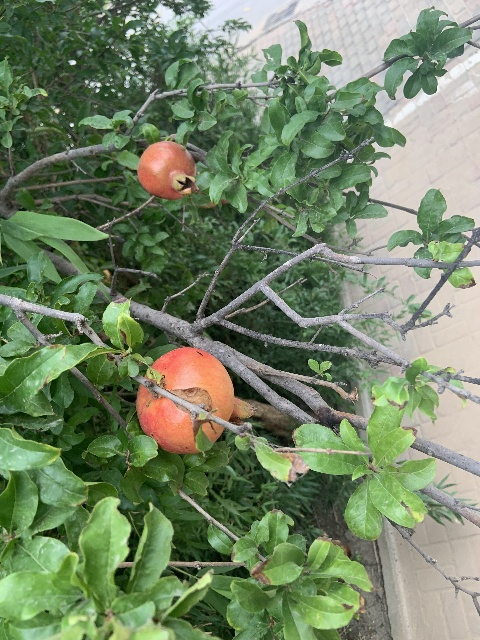ripe: (135, 346, 256, 453), (137, 141, 198, 199)
